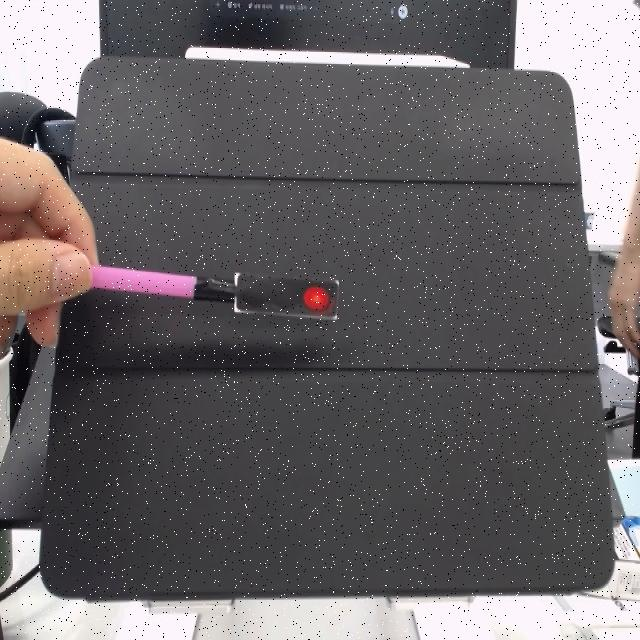traffic light: (234, 272, 341, 324)
